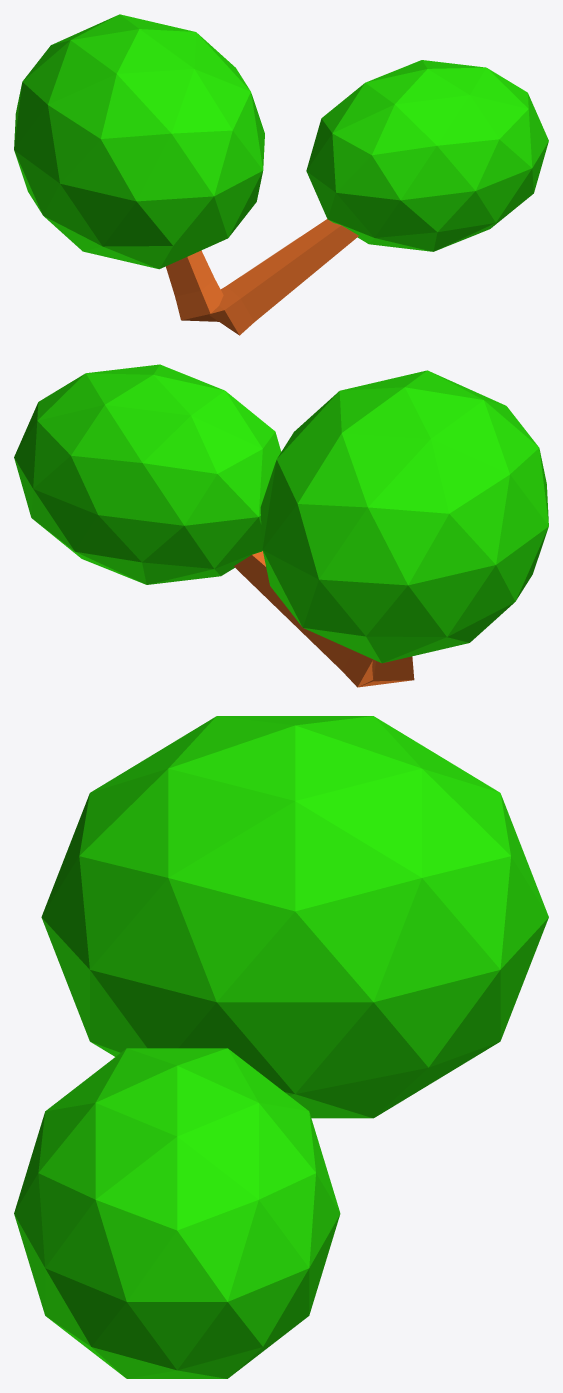
Rendered from drzewo3.fbx.
3 views of the same model, one above another, from view 1: azimuth 30°, elevation 25°; view 2: azimuth 150°, elevation 25°; view 3: azimuth 270°, elevation 25° (orthographic). The views are drawn at different scales.
Parts seen in each view (by area): view 1: Icosphere.001, Icosphere, Cube; view 2: Icosphere.001, Icosphere, Cube; view 3: Icosphere.001, Icosphere.
Boxes of the visible parts, x1,y1,x2,y2 form: Icosphere.001: [14, 14, 264, 269]; Icosphere: [306, 60, 548, 251]; Cube: [166, 219, 358, 335]; Icosphere.001: [260, 370, 548, 663]; Icosphere: [14, 364, 281, 584]; Cube: [234, 551, 414, 687]; Icosphere.001: [41, 716, 548, 1118]; Icosphere: [14, 1048, 340, 1378].
Bounding box in the file's own units: 281 × 170 × 165.
